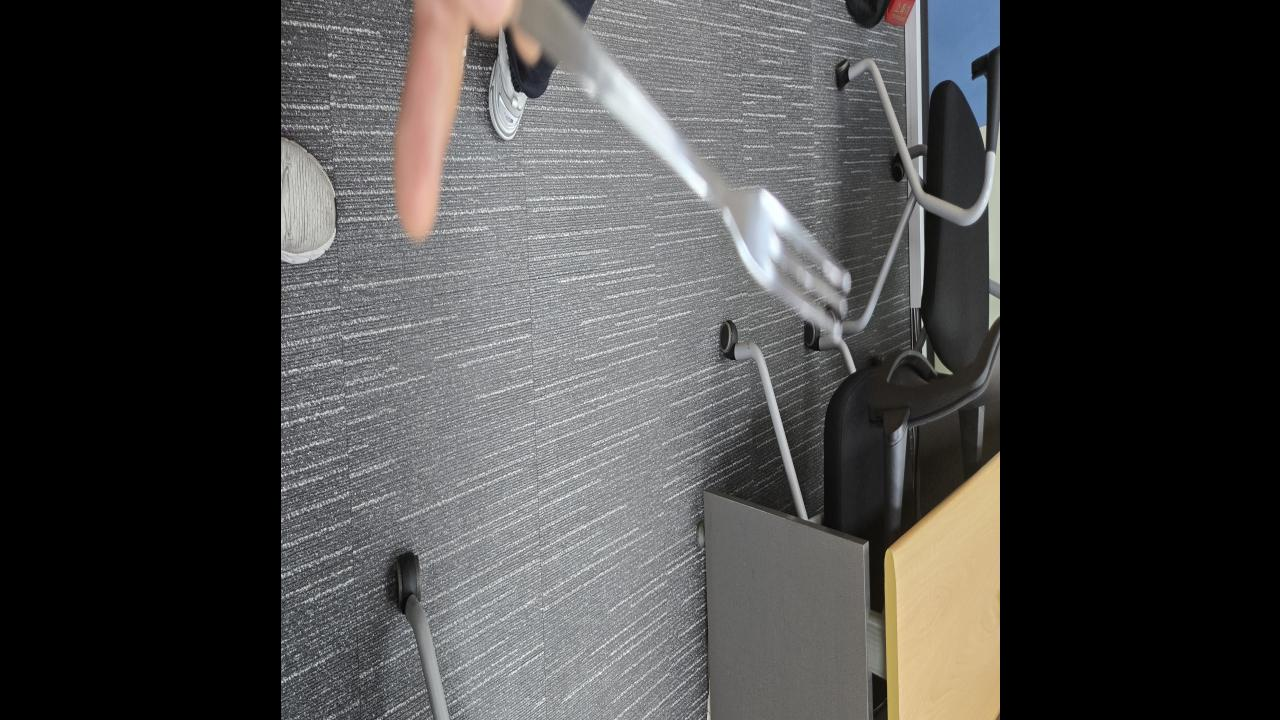fork: (516, 0, 849, 341)
